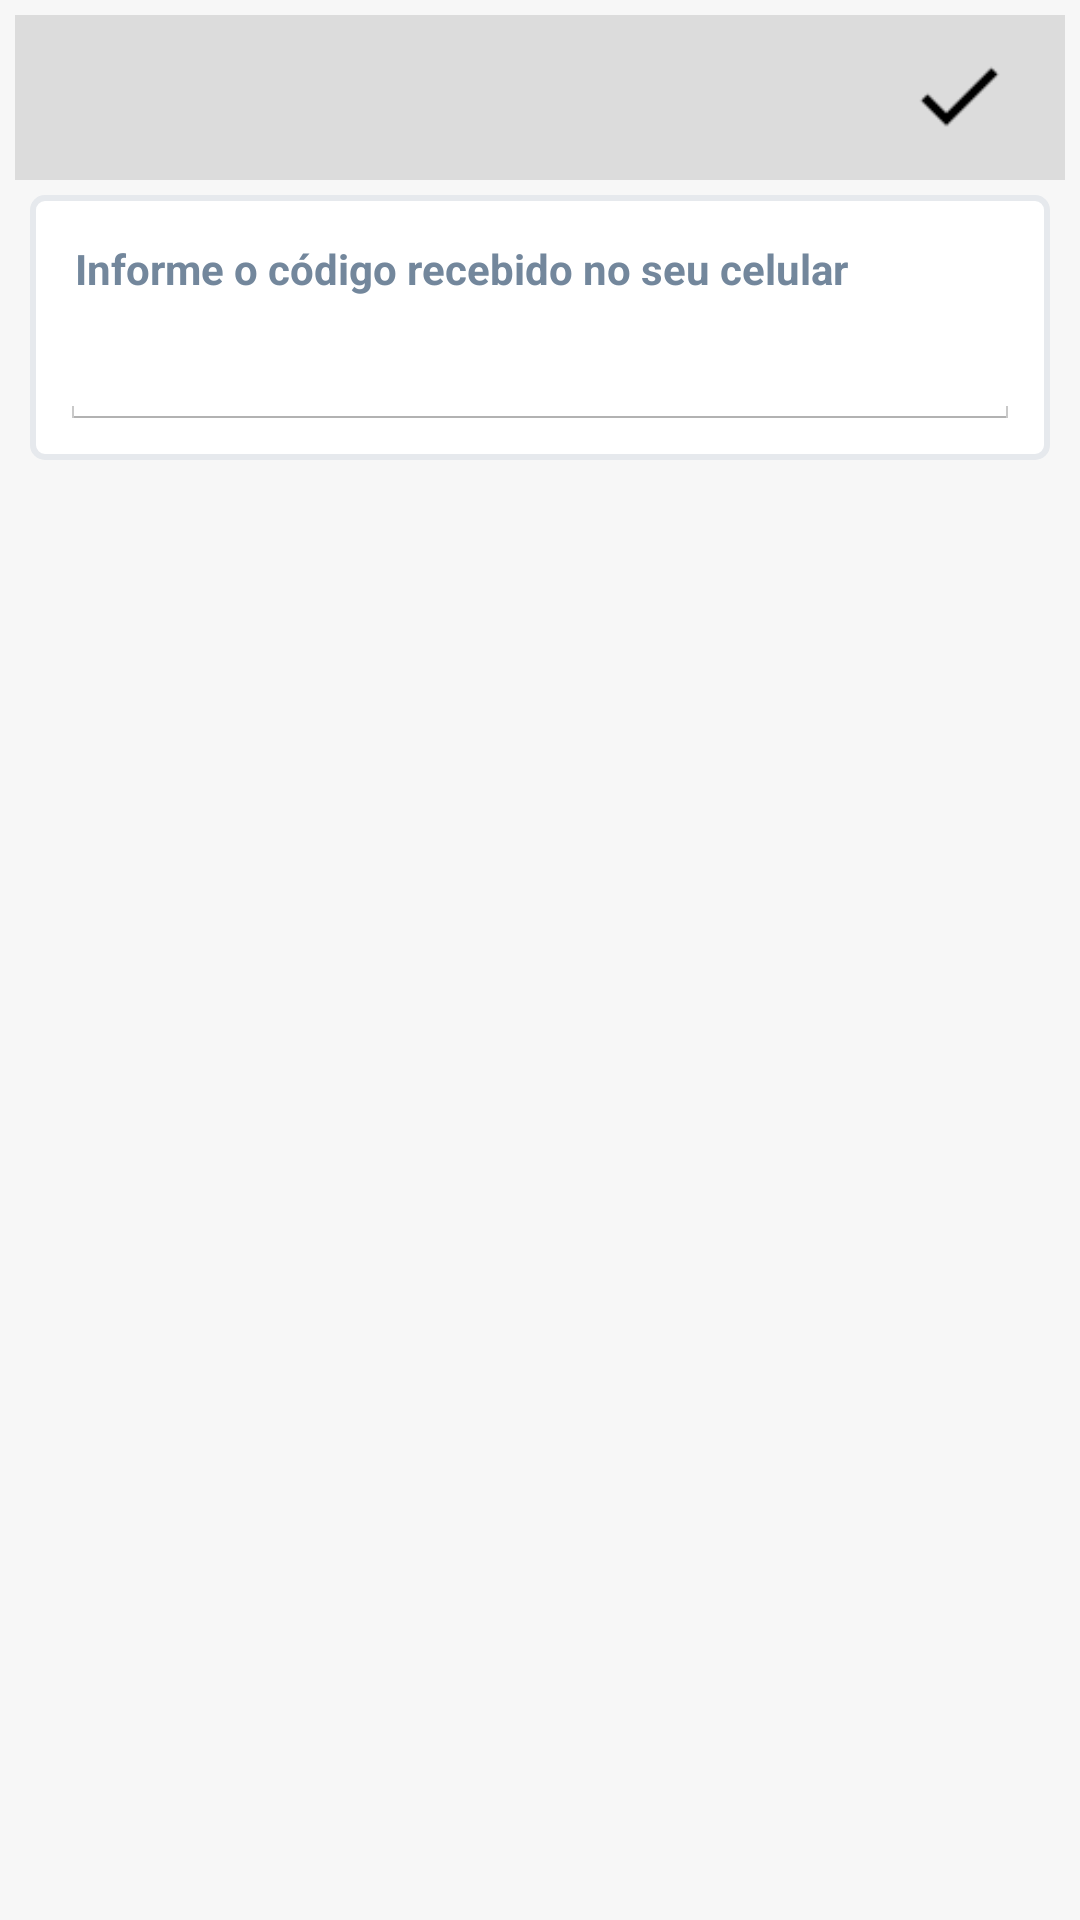

Named icons in this screenshot (1080 × 1920) and their bounding boxes, bbox=[x1, y1, x2, y2]:
checkmark: bbox=[921, 67, 999, 126]
